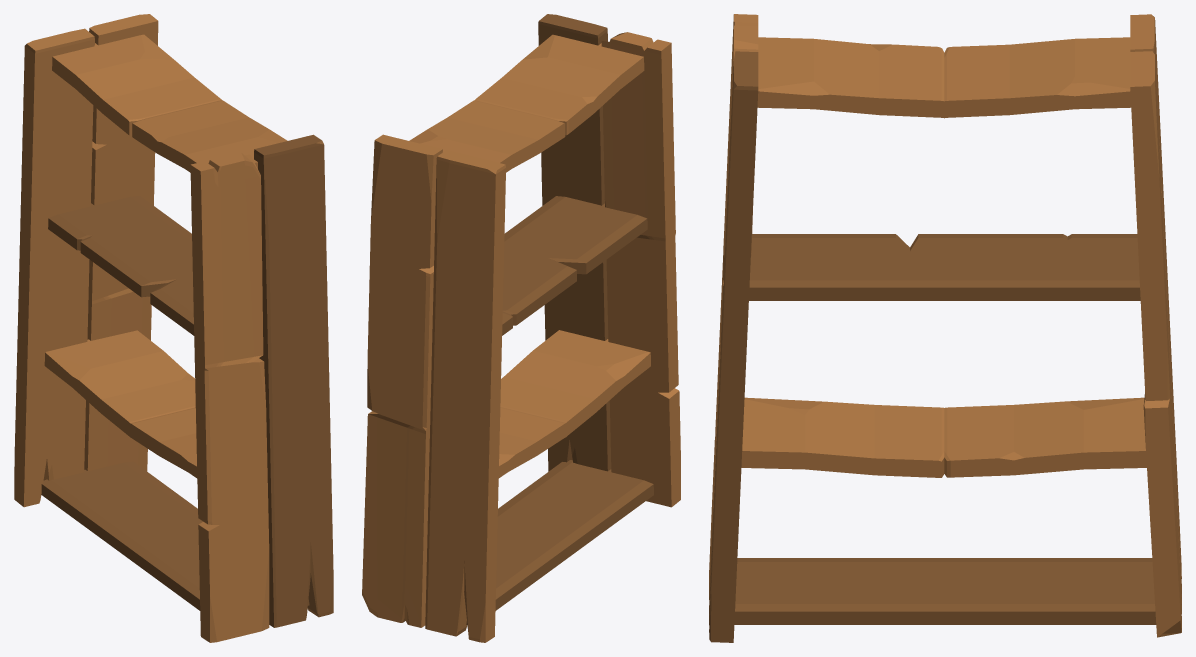
Rendered from Low Poly Wood Shelf No Back.fbx.
3 renders of one model, left to right at view 1: azimuth 30°, elevation 25°; view 2: azimuth 150°, elevation 25°; view 3: azimuth 270°, elevation 25°, orthographic. The views are drawn at different scales.
Parts seen in each view (by area): view 1: Wood Shelf No Back; view 2: Wood Shelf No Back; view 3: Wood Shelf No Back.
Boxes of the visible parts, box(x1,y1,x2,y2) form: Wood Shelf No Back: box(14, 14, 333, 642); Wood Shelf No Back: box(362, 14, 680, 642); Wood Shelf No Back: box(709, 14, 1181, 642).
Bounding box in the file's own units: 63.28 × 228 × 176.
